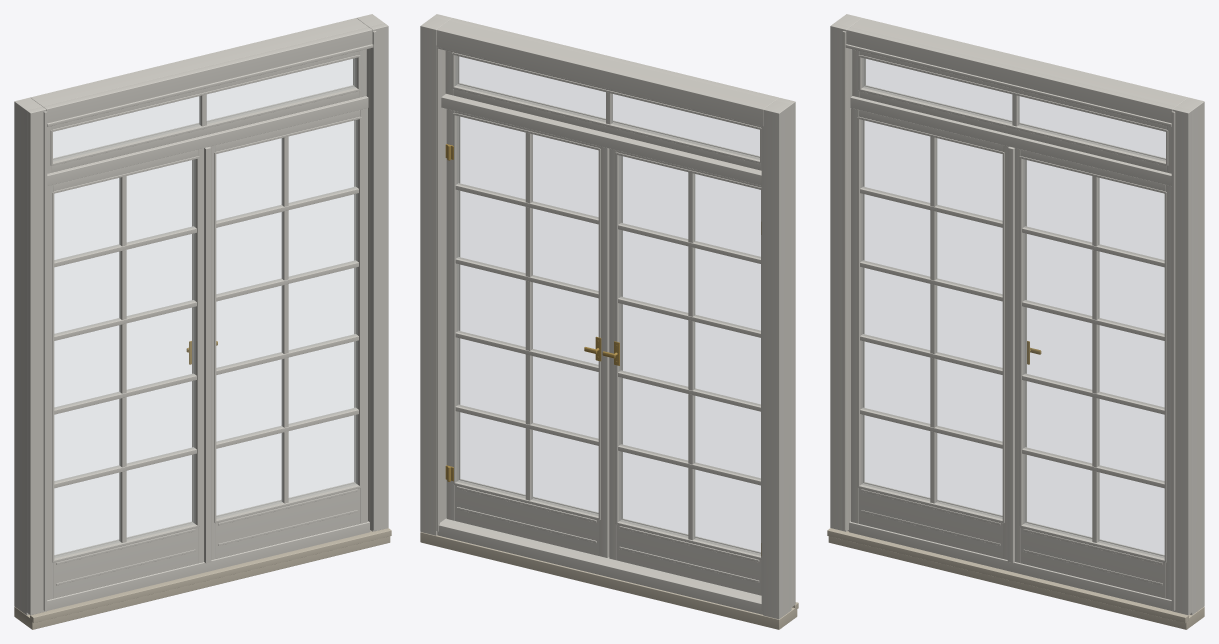
File: rpg-mansion-french-window-01.glb
3 renders of one model, left to right at view 1: azimuth 30°, elevation 25°; view 2: azimuth 150°, elevation 25°; view 3: azimuth 330°, elevation 25°, orthographic.
Parts seen in each view (by area): view 1: rpg-mansion-french-window-01; view 2: rpg-mansion-french-window-01; view 3: rpg-mansion-french-window-01.
Boxes of the visible parts, left/top/right/bottom form: rpg-mansion-french-window-01: left=14, top=14, right=391, bottom=629; rpg-mansion-french-window-01: left=420, top=14, right=798, bottom=629; rpg-mansion-french-window-01: left=827, top=14, right=1204, bottom=629.
Size of the model in its own units: 1.6 by 2.2 by 0.15.
